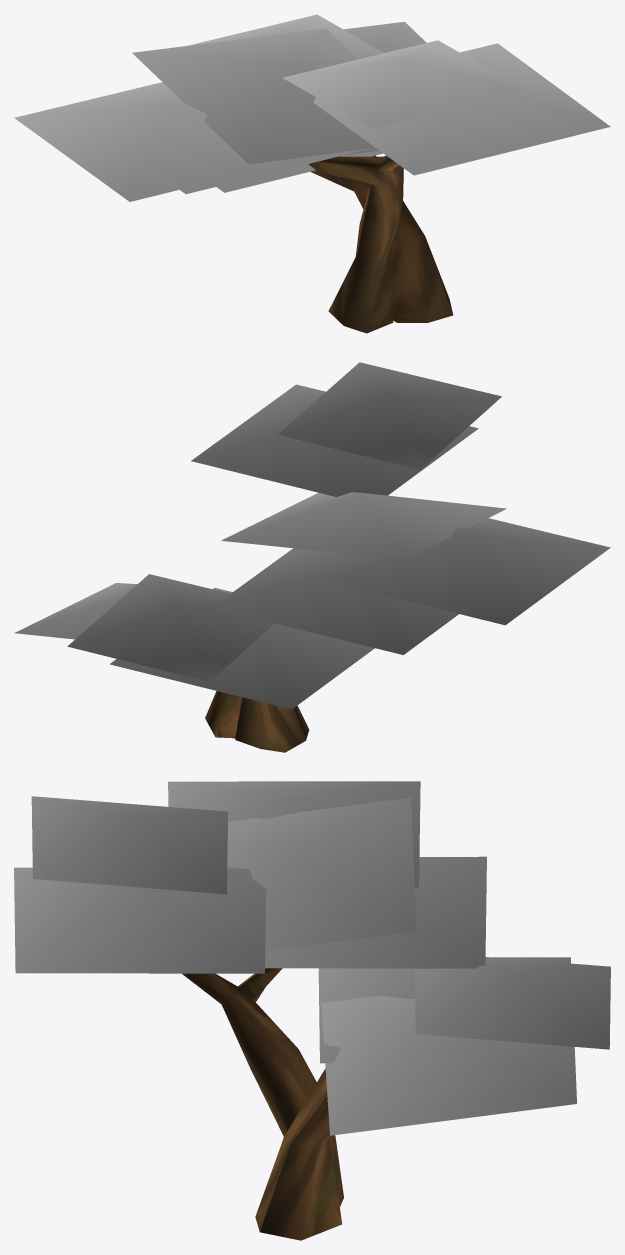
Rendered from bush_04.obj.
3 views of the same model, one above another, from view 1: azimuth 30°, elevation 25°; view 2: azimuth 150°, elevation 25°; view 3: azimuth 270°, elevation 25° (orthographic). The views are drawn at different scales.
Visible parts, largest first — view 1: bush_04; view 2: bush_04; view 3: bush_04.
Boxes of the visible parts, <box> form: bush_04: <box>14,14,610,333</box>; bush_04: <box>14,362,610,752</box>; bush_04: <box>14,781,610,1240</box>.
Bounding box in the file's own units: 152 × 102 × 154.
